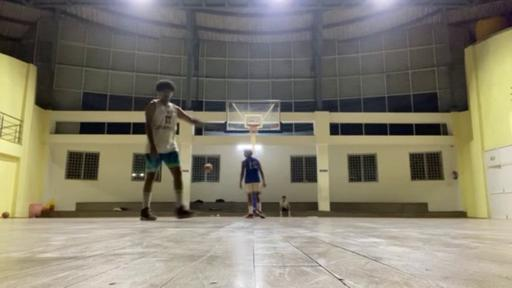ball: (203, 164, 213, 172), (2, 211, 10, 219)
human: (140, 79, 204, 222), (238, 150, 266, 218), (280, 196, 292, 217)
rim: (246, 124, 261, 134)
